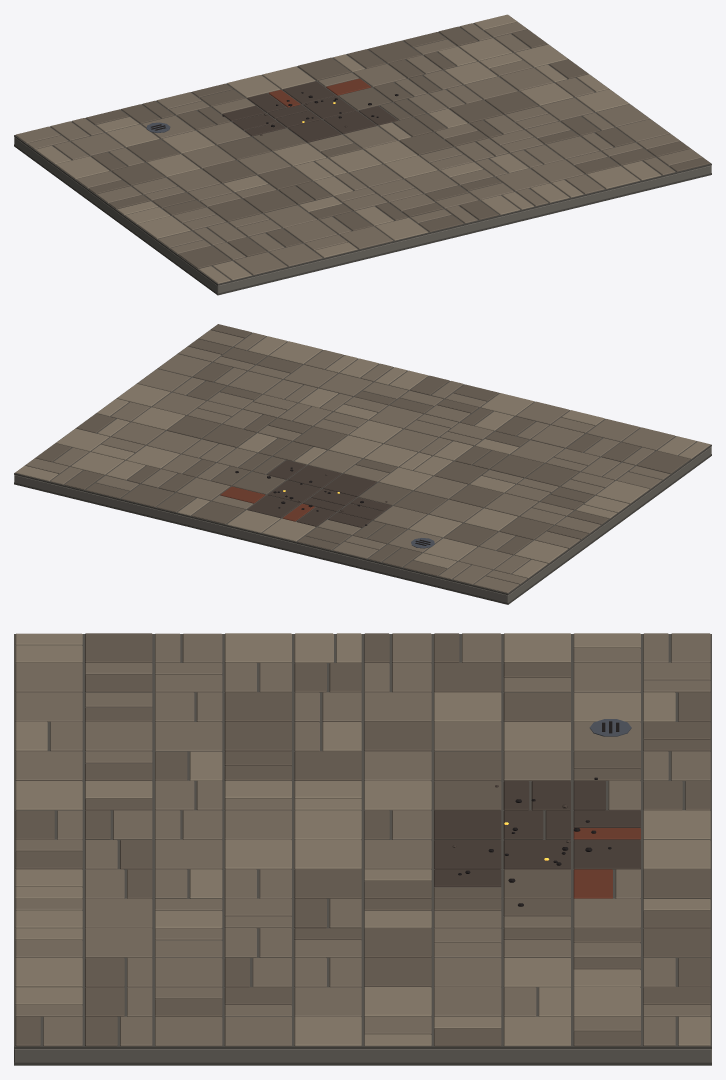
The model's file is Smithy Floor.fbx.
The picture shows the model from 3 angles, top to bottom: view 1: azimuth 30°, elevation 25°; view 2: azimuth 150°, elevation 25°; view 3: azimuth 270°, elevation 25°; orthographic projection. The views are drawn at different scales.
Visible parts, largest first — view 1: Mortar, Footing, FootingDark, F6_6, F3_6, F7_3, F11_5, F12_5, F12_6, F0_1, F0_3, F0_7 (+51 smaller); view 2: Mortar, Footing, FootingDark, F12_6, F3_1, F4_0, F11_0, F12_5, F0_7, F0_3, F2_5, F3_3 (+51 smaller); view 3: Mortar, Footing, FootingDark, F3_3, F3_6, F1_6, F3_1, F3_5, F5_5, F7_2, F7_3, F11_0 (+211 smaller).
Part boxes in pixels (left/top/right/bottom): Mortar: left=14, top=17, right=711, bottom=285; Footing: left=14, top=137, right=711, bottom=293; FootingDark: left=14, top=144, right=711, bottom=295; F6_6: left=288, top=119, right=341, bottom=142; F3_6: left=182, top=145, right=235, bottom=168; F7_3: left=384, top=155, right=437, bottom=178; F11_5: left=485, top=91, right=537, bottom=114; F12_5: left=520, top=83, right=573, bottom=105; F12_6: left=500, top=68, right=552, bottom=90; F0_1: left=178, top=246, right=231, bottom=268; F0_3: left=137, top=216, right=190, bottom=238; F0_7: left=56, top=156, right=108, bottom=179; Mortar: left=14, top=324, right=711, bottom=595; Footing: left=14, top=446, right=711, bottom=602; FootingDark: left=14, top=454, right=711, bottom=604; F12_6: left=111, top=422, right=164, bottom=445; F3_1: left=531, top=425, right=584, bottom=448; F4_0: left=516, top=401, right=569, bottom=424; F11_0: left=269, top=341, right=322, bottom=364; F12_5: left=132, top=407, right=184, bottom=430; F0_7: left=515, top=540, right=567, bottom=563; F0_3: left=596, top=480, right=649, bottom=503; F2_5: left=485, top=493, right=537, bottom=516; F3_3: left=490, top=455, right=543, bottom=477; Mortar: left=14, top=634, right=711, bottom=1049; Footing: left=14, top=1049, right=711, bottom=1062; FootingDark: left=14, top=1062, right=711, bottom=1065; F3_3: left=224, top=721, right=291, bottom=751; F3_6: left=434, top=721, right=501, bottom=751; F1_6: left=434, top=662, right=501, bottom=692; F3_1: left=85, top=721, right=152, bottom=751; F3_5: left=364, top=721, right=431, bottom=751; F5_5: left=364, top=780, right=431, bottom=810; F7_2: left=155, top=839, right=222, bottom=869; F7_3: left=224, top=839, right=291, bottom=869; F11_0: left=15, top=957, right=82, bottom=987.
Bounding box in the file's own units: 14 × 0.3599 × 10.
